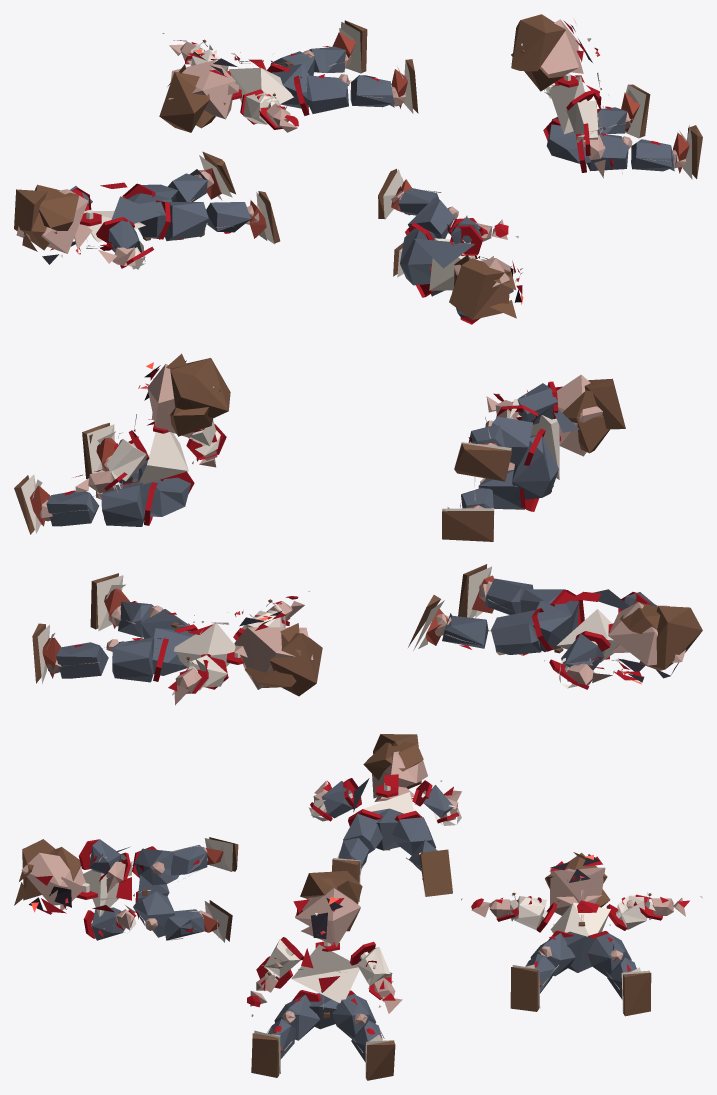
File: inf.corpse-poses.lod2.glb
3 renders of one model, top to bottom at view 1: azimuth 30°, elevation 25°; view 2: azimuth 150°, elevation 25°; view 3: azimuth 270°, elevation 25°, orthographic. The views are drawn at different scales.
Visible parts, largest first — view 1: head, onBack__head, sitting__head, curled__head, curled__torso, onBack__legR, onBack__torso, legL, curled__hip, onBack__footL, torso, onBack__shinR (+24 smaller); view 2: sitting__head, head, onBack__head, curled__head, curled__hip, curled__footL, onBack__legL, legR, curled__footR, sitting__legL, sitting__torso, onBack__footR (+27 smaller); view 3: sitting__head, curled__head, head, onBack__head, sitting__torso, onBack__torso, footR, onBack__footR, onBack__footL, sitting__footR, curled__torso, sitting__legL (+27 smaller).
Boxes of the visible parts, box(x1,y1,x2,y2) form: head: box(14, 184, 92, 264); onBack__head: box(159, 49, 242, 132); sitting__head: box(511, 14, 599, 91); curled__head: box(449, 255, 523, 319); curled__torso: box(414, 224, 488, 290); onBack__legR: box(307, 74, 350, 113); onBack__torso: box(228, 52, 293, 103); legL: box(164, 201, 208, 240); curled__hip: box(400, 228, 436, 285); onBack__footL: box(332, 20, 367, 73); torso: box(84, 182, 162, 252); onBack__shinR: box(349, 75, 394, 107); sitting__head: box(138, 353, 230, 437); head: box(608, 601, 702, 684); onBack__head: box(234, 609, 322, 696); curled__head: box(555, 374, 625, 456); curled__hip: box(512, 435, 558, 500); curled__footL: box(454, 441, 512, 481); onBack__legL: box(106, 637, 154, 682); legR: box(491, 610, 541, 655); curled__footR: box(442, 505, 494, 541); sitting__legL: box(96, 482, 144, 526); sitting__torso: box(118, 414, 188, 484); onBack__footR: box(90, 573, 129, 631); sitting__head: box(293, 871, 362, 946); curled__head: box(14, 839, 85, 914); head: box(363, 734, 427, 804); onBack__head: box(545, 852, 610, 915); sitting__torso: box(291, 944, 359, 1009); onBack__torso: box(550, 889, 610, 936); footR: box(419, 849, 452, 896); onBack__footR: box(510, 964, 541, 1011); onBack__footL: box(621, 967, 651, 1016); sitting__footR: box(251, 1030, 282, 1077); curled__torso: box(83, 846, 150, 920); sitting__legL: box(332, 994, 376, 1038).
Size of the model in its own units: 5.28 by 1.35 by 5.43.
